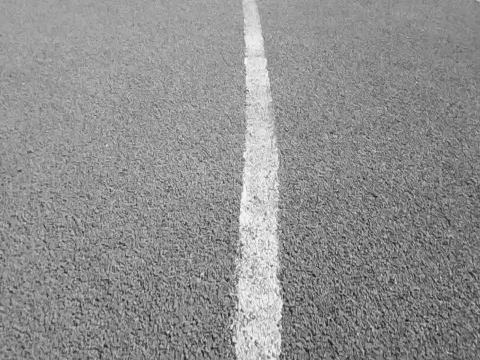Lines: (234, 0, 282, 360)
